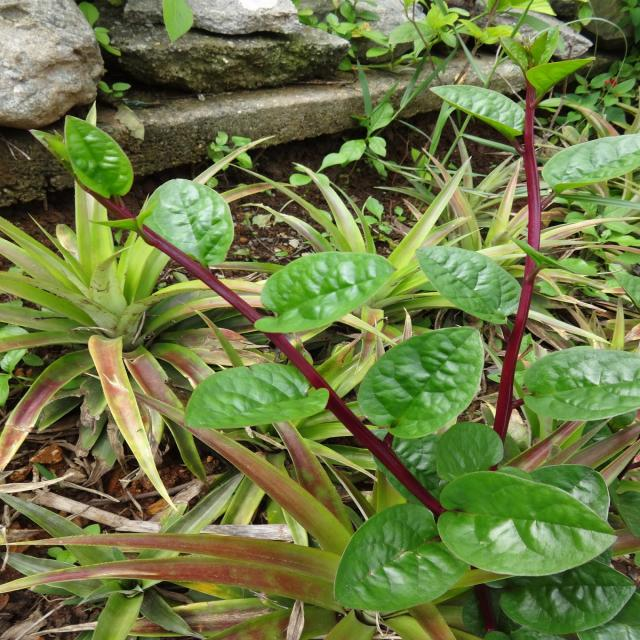Medicinal-Basale: (189, 204, 619, 626), (22, 104, 257, 284), (423, 24, 640, 193)
